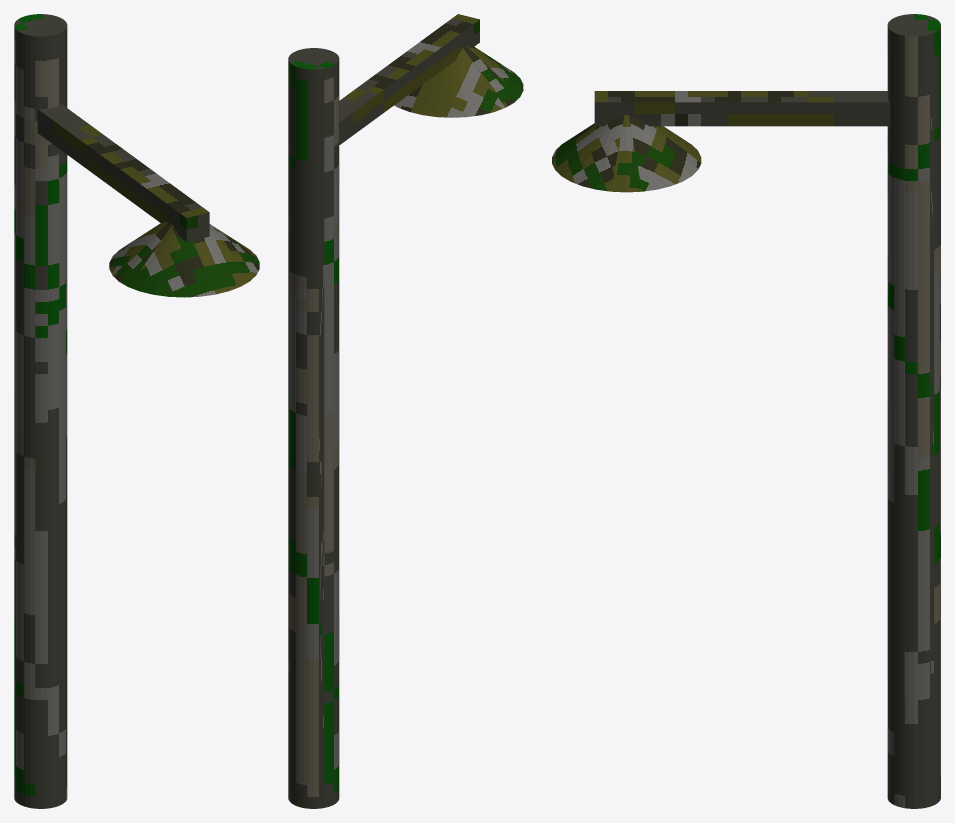
File: poste.gltf
The picture shows the model from 3 angles, left to right: view 1: azimuth 30°, elevation 25°; view 2: azimuth 150°, elevation 25°; view 3: azimuth 270°, elevation 25°; orthographic projection. The views are drawn at different scales.
Parts seen in each view (by area): view 1: cylinder, cone, cube; view 2: cylinder, cube, cone; view 3: cylinder, cube, cone.
Boxes of the visible parts, x1,y1,x2,y2 form: cylinder: [14, 14, 67, 808]; cone: [109, 222, 259, 297]; cube: [37, 104, 209, 241]; cylinder: [288, 48, 339, 808]; cube: [339, 14, 479, 144]; cone: [394, 45, 523, 117]; cylinder: [887, 14, 940, 808]; cube: [594, 91, 889, 126]; cone: [552, 115, 701, 192].
Bounding box in the file's own units: 0.0889 × 0.5 × 0.2281.
Materials: 4 (4 with a texture image).
